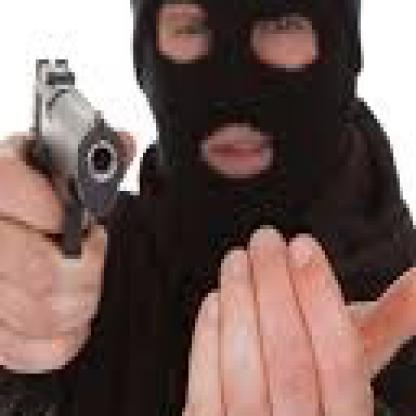gun: (26, 51, 124, 267)
